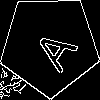A: (25, 20, 79, 74)
